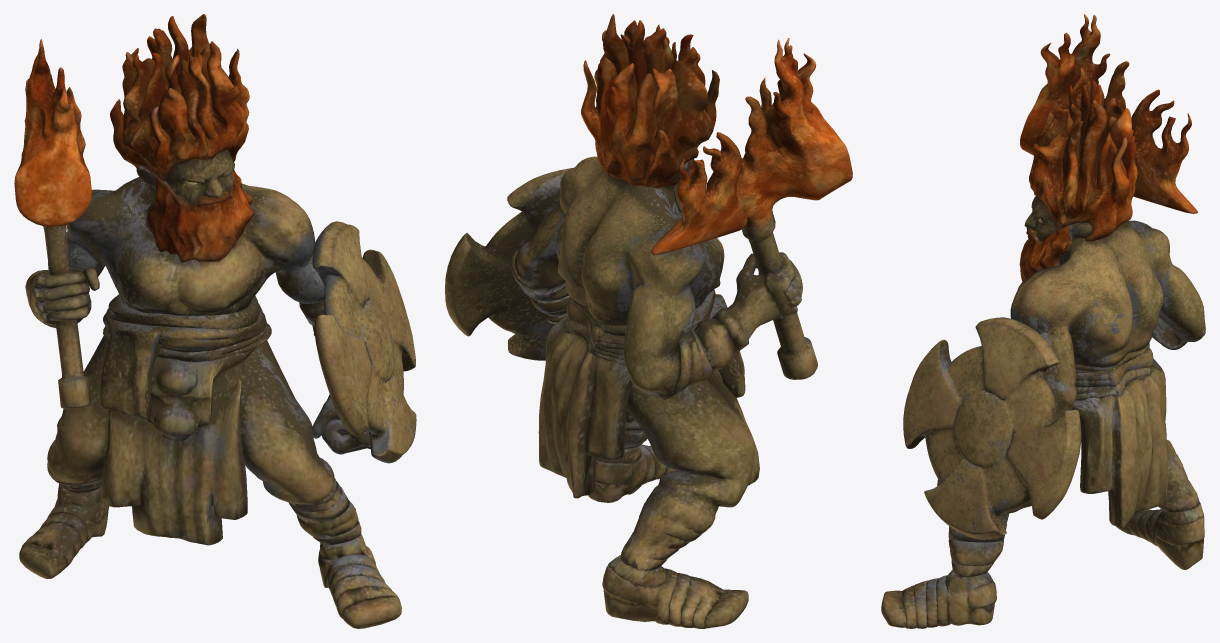
File: MZ4250 - Azer 2.glb
3 renders of one model, left to right at view 1: azimuth 30°, elevation 25°; view 2: azimuth 150°, elevation 25°; view 3: azimuth 270°, elevation 25°, orthographic. The views are drawn at different scales.
Parts seen in each view (by area): view 1: default; view 2: default; view 3: default.
Part boxes in pixels (x1=…): default: x1=14, y1=14, x2=416, y2=628; default: x1=445, y1=14, x2=852, y2=628; default: x1=881, y1=14, x2=1205, y2=628.
Bounding box in the file's own units: 0.7205 × 0.9733 × 0.5661.
Materials: 1 (1 with a texture image).
